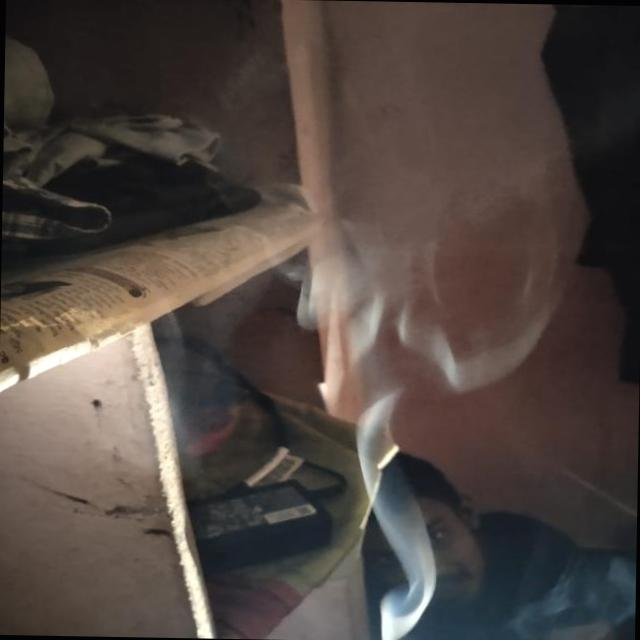smoke: (331, 241, 528, 640)
